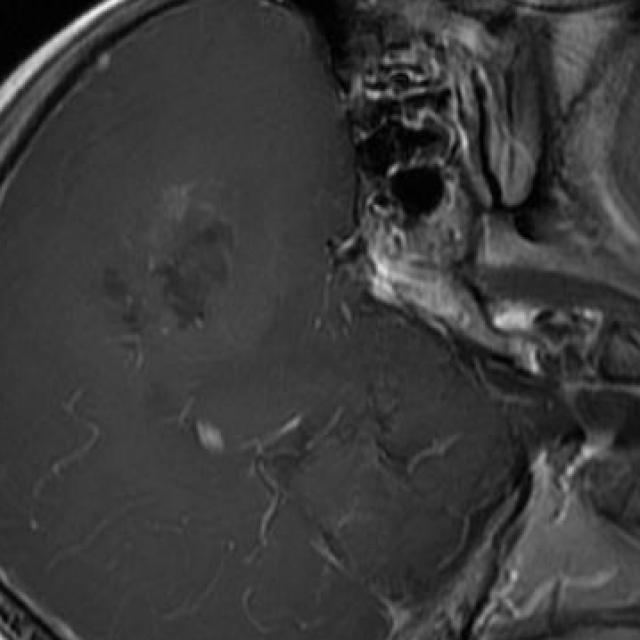glioma: (103, 189, 230, 362)
